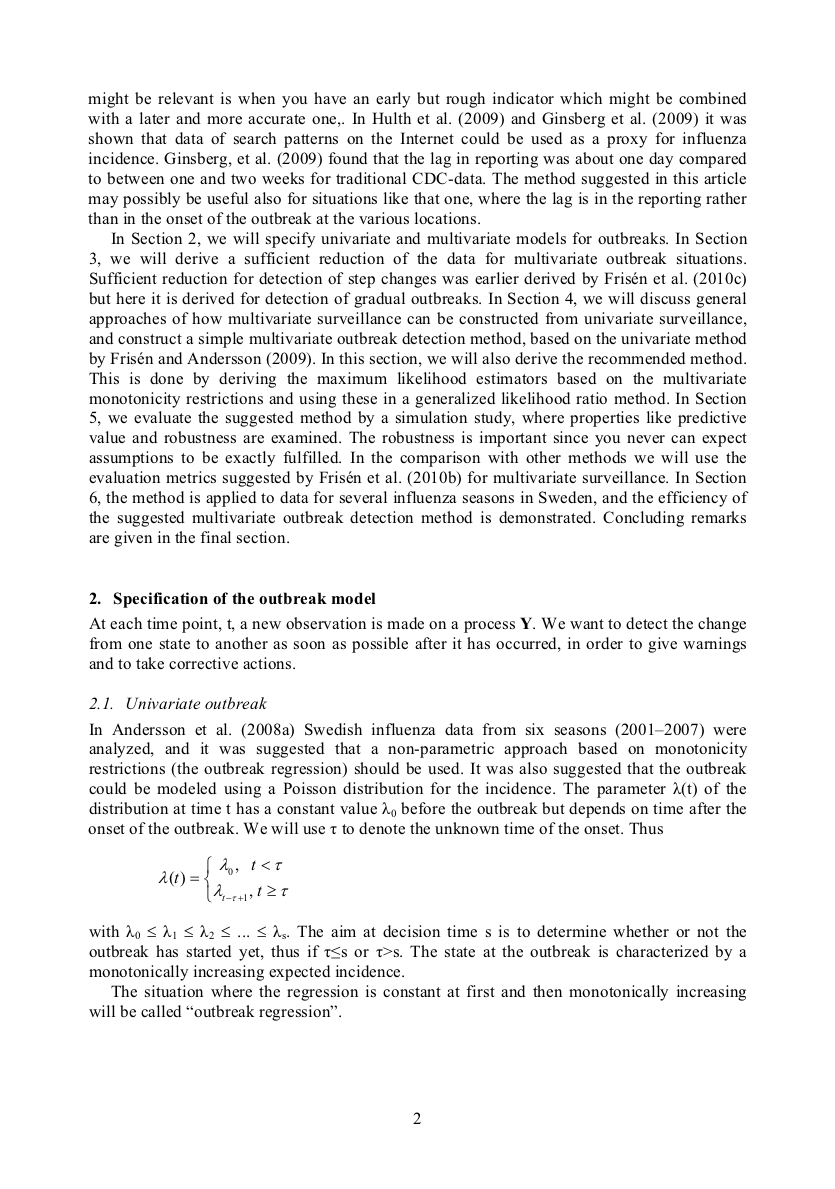formula: (158, 855, 288, 903)
